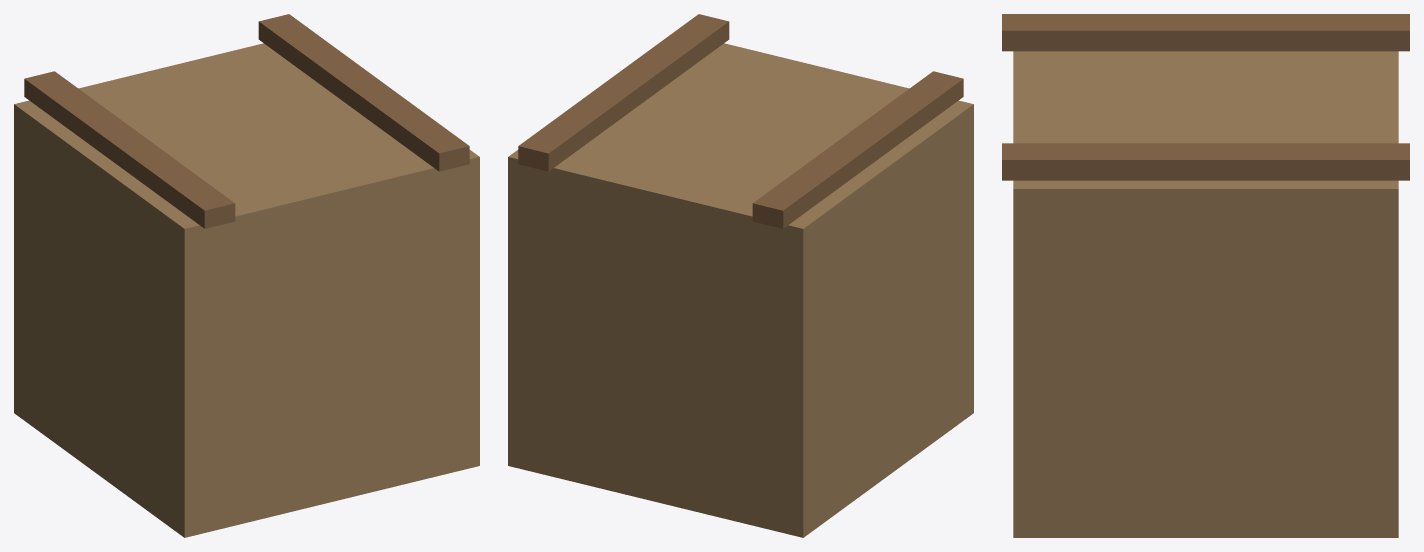
Rendered from crate.gltf.
3 views of the same model, side by side, from view 1: azimuth 30°, elevation 25°; view 2: azimuth 150°, elevation 25°; view 3: azimuth 270°, elevation 25° (orthographic). The views are drawn at different scales.
Size of the model in its own units: 0.68 by 0.72 by 0.72.
